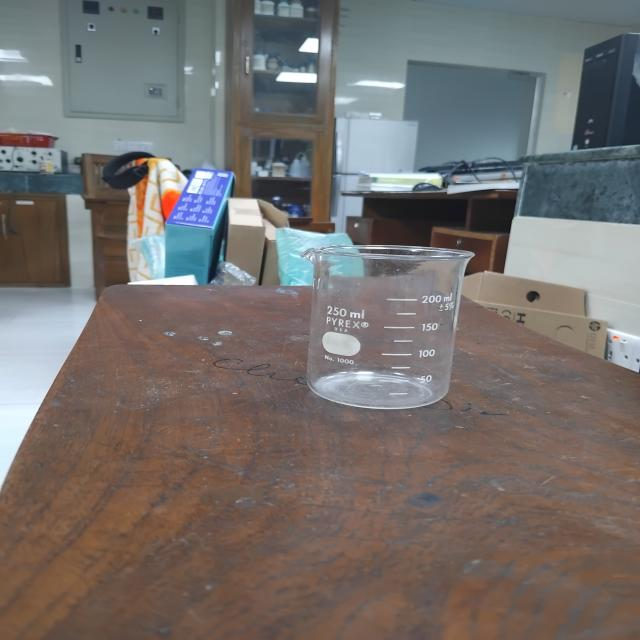Beaker: (286, 208, 490, 436)
